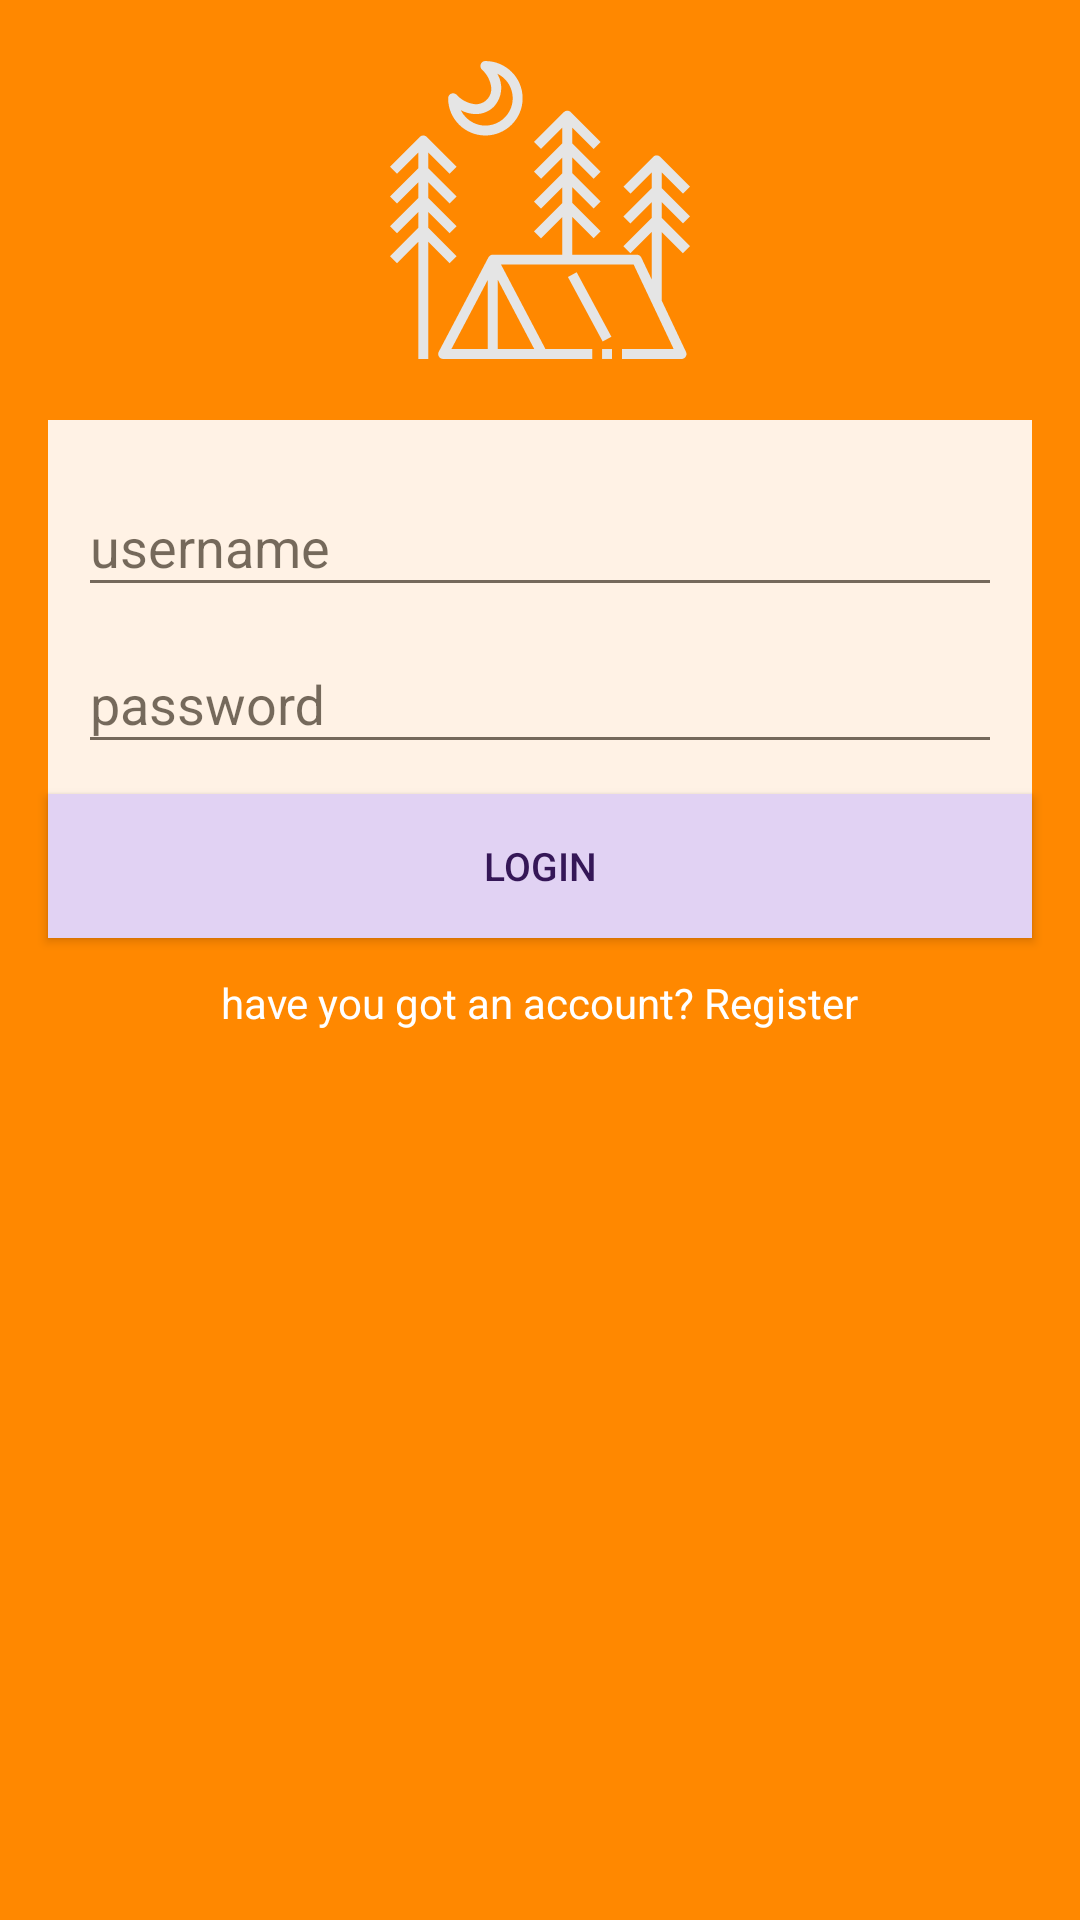

Screen size 1080 x 1920. Icon name, then its center in pixels as [x,y]:
tent: [540,210]
